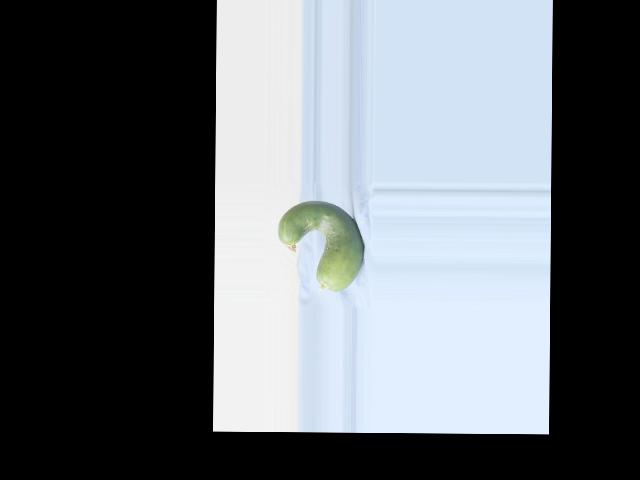cucumber: (277, 200, 364, 292)
